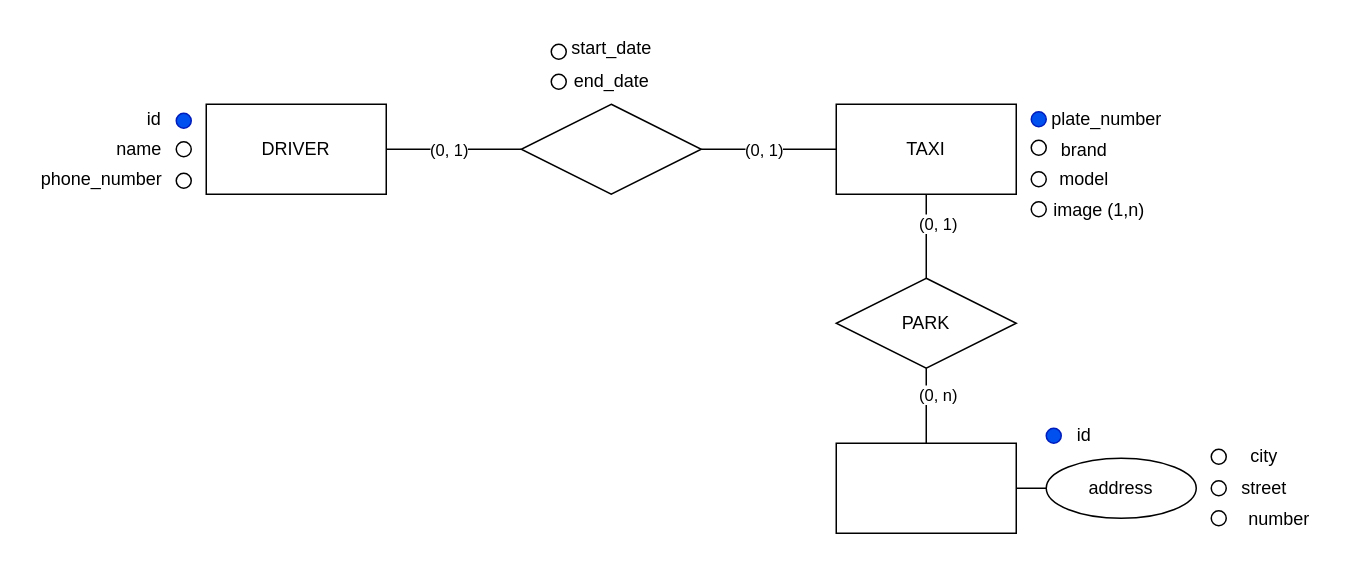
The diagram is 1349 pixels wide and 567 high, and some of its shapes have lost their labels. The centre of each missing label's shape, as x and y in pixels:
"DRIVES" goes at (x=610, y=148).
"PARKING" goes at (x=925, y=487).
